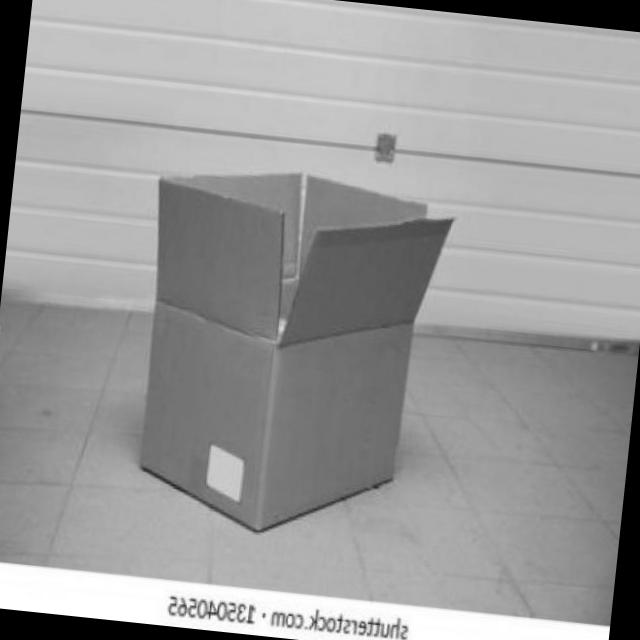box: (121, 154, 460, 556)
